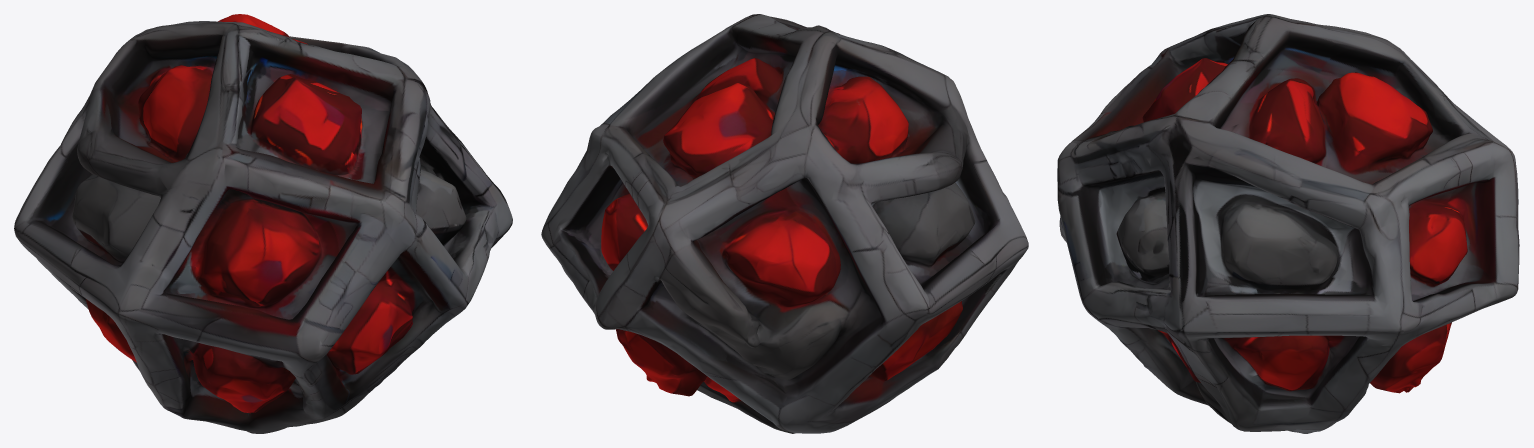
File: GemParcel.fbx
3 views of the same model, side by side, from view 1: azimuth 30°, elevation 25°; view 2: azimuth 150°, elevation 25°; view 3: azimuth 270°, elevation 25° (orthographic). The views are drawn at different scales.
Parts seen in each view (by area): view 1: texture_v100; view 2: texture_v100; view 3: texture_v100.
Part boxes in pixels (x1,y1,x2,y2): texture_v100: (14,14,512,433); texture_v100: (541,14,1028,433); texture_v100: (1057,14,1519,433).
Size of the model in its own units: 106 by 106 by 112.
Materials: 1 (1 with a texture image).
